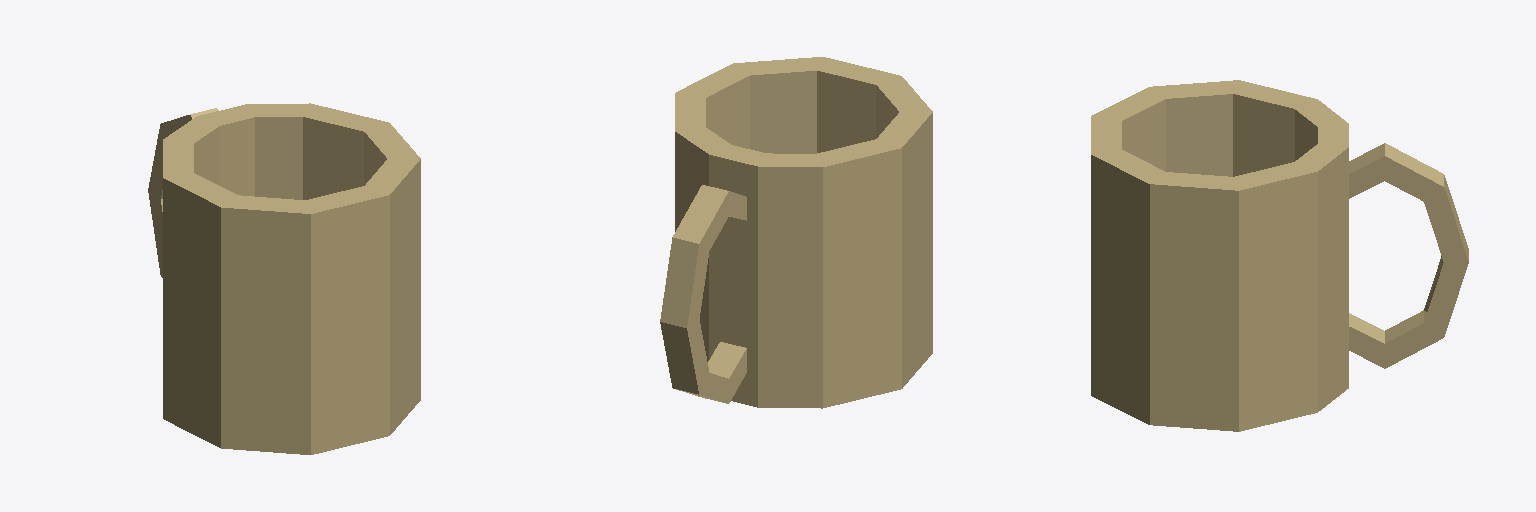
File: Cup.obj
3 renders of one model, left to right at view 1: azimuth 30°, elevation 25°; view 2: azimuth 150°, elevation 25°; view 3: azimuth 270°, elevation 25°, orthographic.
Visible parts, largest first — view 1: Cylinder_-col; view 2: Cylinder_-col; view 3: Cylinder_-col.
Part boxes in pixels (x1,y1,x2,y2): Cylinder_-col: (148, 103, 420, 454); Cylinder_-col: (660, 57, 932, 408); Cylinder_-col: (1091, 80, 1468, 431).
Bounding box in the file's own units: 1.97 × 2 × 2.84.